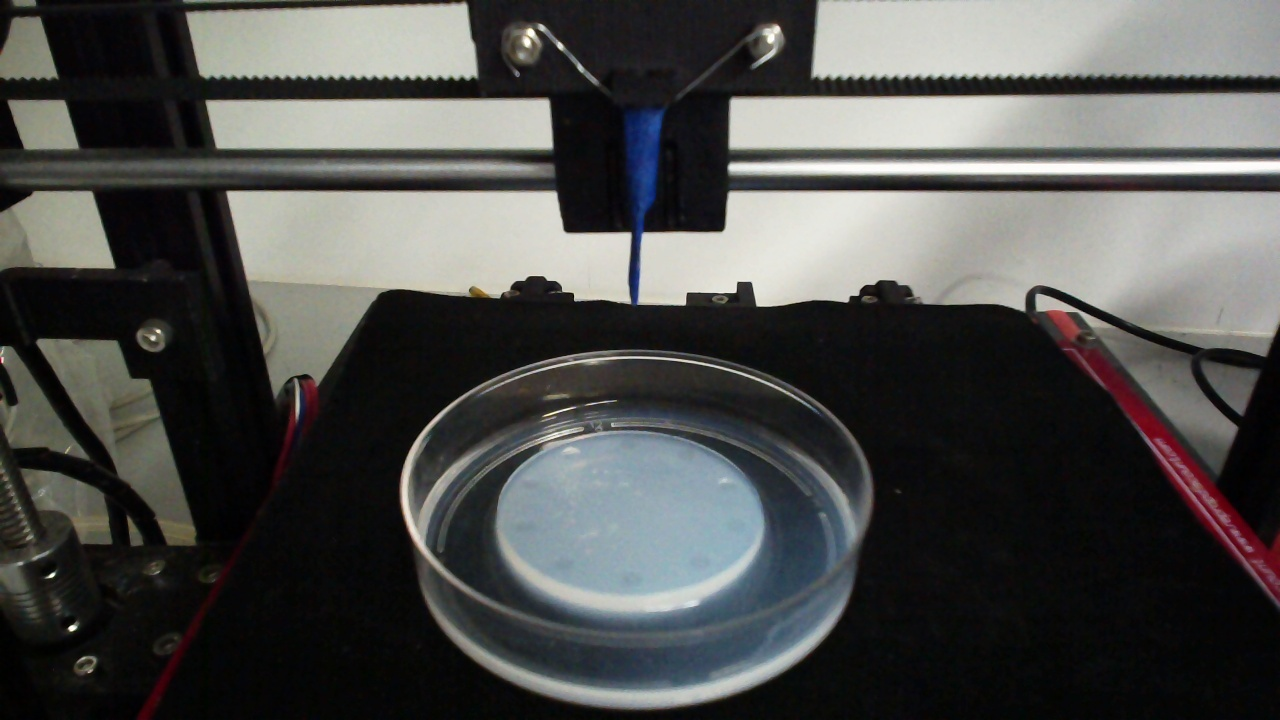groove: (615, 567, 643, 589), (685, 552, 713, 571), (717, 475, 740, 495), (512, 516, 537, 534), (551, 552, 576, 570), (560, 445, 582, 463), (615, 435, 638, 451), (724, 518, 748, 533), (518, 475, 541, 490), (673, 447, 696, 462)
needle: (624, 110, 663, 307)
